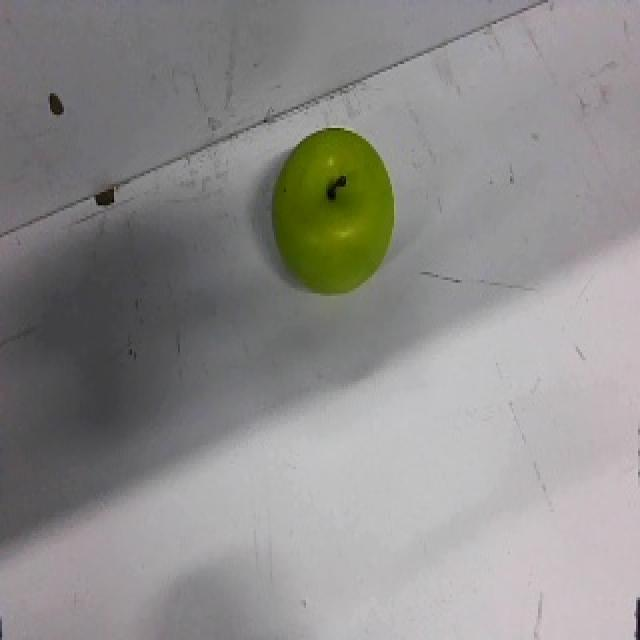apple: (271, 127, 396, 296)
